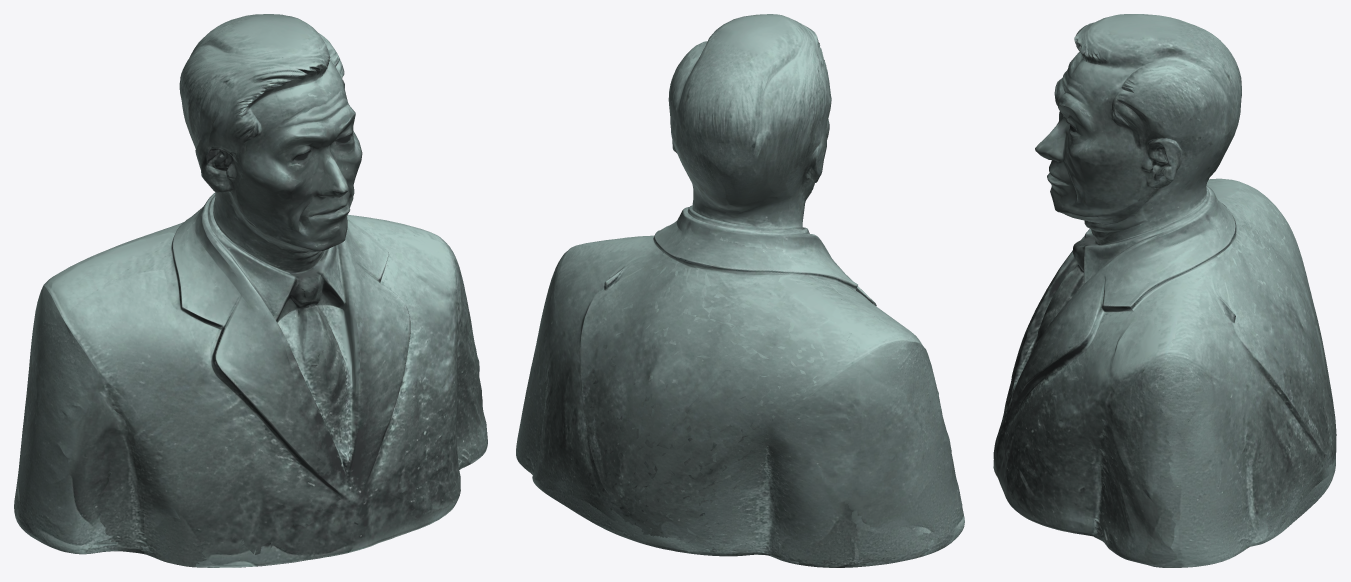
File: bust-hq.glb
3 views of the same model, side by side, from view 1: azimuth 30°, elevation 25°; view 2: azimuth 150°, elevation 25°; view 3: azimuth 270°, elevation 25° (orthographic). The views are drawn at different scales.
Visible parts, largest first — view 1: bustHQ; view 2: bustHQ; view 3: bustHQ.
Part boxes in pixels (left/top/right/bottom): bustHQ: left=14, top=14, right=487, bottom=567; bustHQ: left=516, top=14, right=964, bottom=567; bustHQ: left=993, top=14, right=1336, bottom=567.
Size of the model in its own units: 0.6196 by 0.6237 by 0.4356.
1 material, 1 textured.
